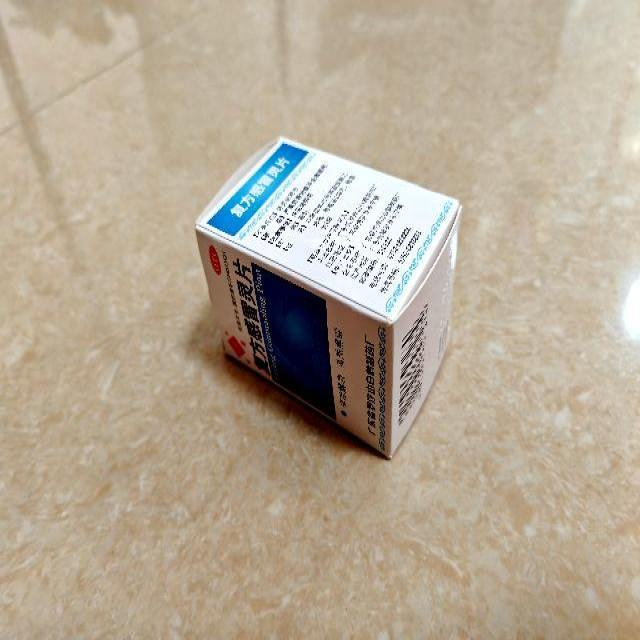box: (193, 138, 464, 457)
